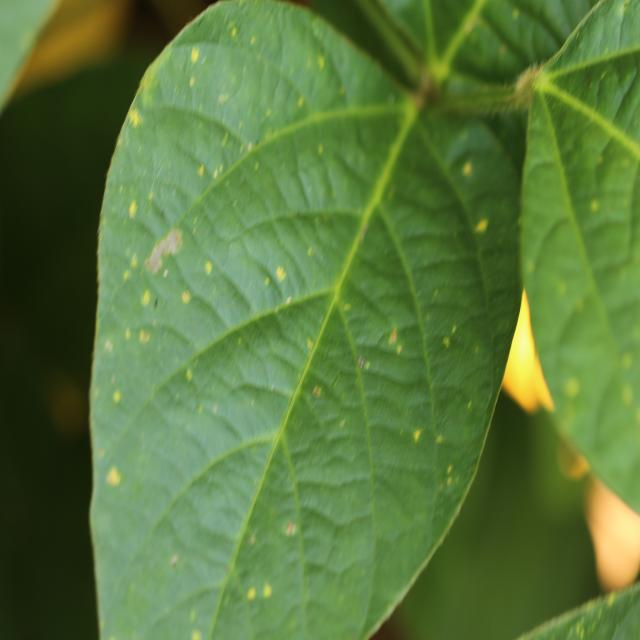Soybean: (83, 0, 640, 640)
downey_mildew: (112, 56, 392, 615), (266, 209, 431, 476), (141, 392, 315, 629), (115, 110, 227, 339), (284, 315, 383, 445), (189, 225, 306, 330), (180, 41, 278, 164), (558, 313, 637, 441), (111, 240, 187, 369), (201, 212, 297, 304), (563, 599, 619, 638), (435, 446, 462, 494), (245, 578, 274, 602), (106, 466, 121, 486), (141, 84, 153, 107), (566, 377, 580, 396), (622, 385, 634, 405), (130, 108, 141, 128), (622, 352, 634, 369), (140, 289, 151, 307), (474, 218, 487, 233), (285, 521, 296, 537), (128, 200, 137, 219), (276, 266, 286, 283), (388, 328, 397, 345), (190, 47, 199, 63), (557, 281, 567, 295), (606, 591, 616, 605), (263, 583, 272, 598), (463, 161, 472, 176), (140, 331, 149, 345), (413, 429, 422, 443), (247, 586, 256, 600), (617, 1, 626, 15), (170, 554, 179, 568), (104, 339, 113, 352), (623, 0, 632, 13), (205, 261, 213, 275), (113, 390, 121, 404), (192, 629, 202, 640), (218, 93, 227, 105), (590, 200, 599, 212), (247, 534, 256, 546), (313, 386, 322, 398), (212, 165, 219, 180), (131, 253, 138, 268), (182, 291, 190, 304), (318, 55, 325, 69), (186, 368, 193, 381), (443, 336, 450, 349), (197, 164, 204, 176), (123, 269, 130, 281), (526, 261, 533, 273), (297, 97, 304, 108), (98, 448, 105, 459), (512, 10, 519, 21), (635, 325, 640, 340), (189, 75, 195, 87), (364, 360, 371, 370), (447, 464, 453, 475), (125, 329, 131, 340), (318, 144, 324, 155), (212, 404, 218, 415), (231, 27, 237, 38), (436, 435, 443, 444), (339, 418, 345, 428), (307, 246, 313, 256), (148, 192, 154, 202), (357, 206, 363, 216), (339, 86, 345, 96), (600, 71, 606, 80), (397, 343, 402, 353), (637, 408, 640, 424), (247, 143, 252, 152), (254, 162, 259, 171), (452, 325, 457, 334), (467, 400, 472, 409), (163, 269, 168, 278), (575, 31, 580, 40), (447, 477, 452, 485)
